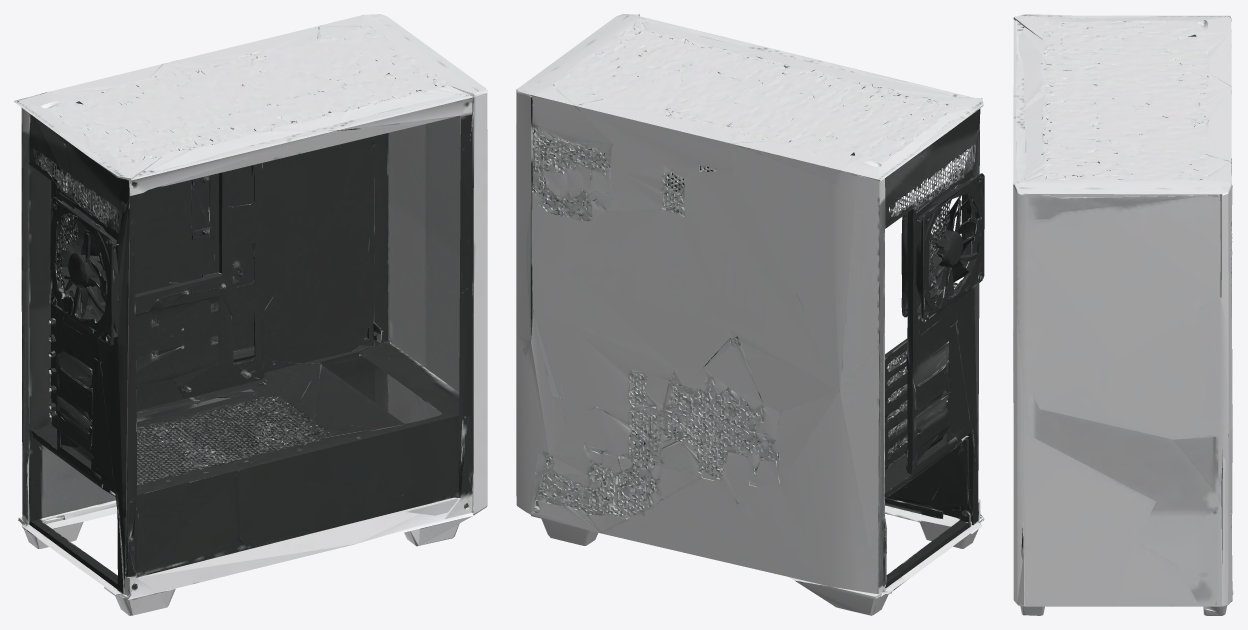
File: case.glb
The picture shows the model from 3 angles, left to right: view 1: azimuth 30°, elevation 25°; view 2: azimuth 150°, elevation 25°; view 3: azimuth 270°, elevation 25°; orthographic projection.
Visible parts, largest first — view 1: Mesh_0; view 2: Mesh_0; view 3: Mesh_0.
Part boxes in pixels (<box>): Mesh_0: <box>14,14,487,615</box>; Mesh_0: <box>516,14,984,615</box>; Mesh_0: <box>1013,14,1233,615</box>.
Bounding box in the file's own units: 1.7 × 1.9 × 0.8627.
Materials: 1 (1 with a texture image).
